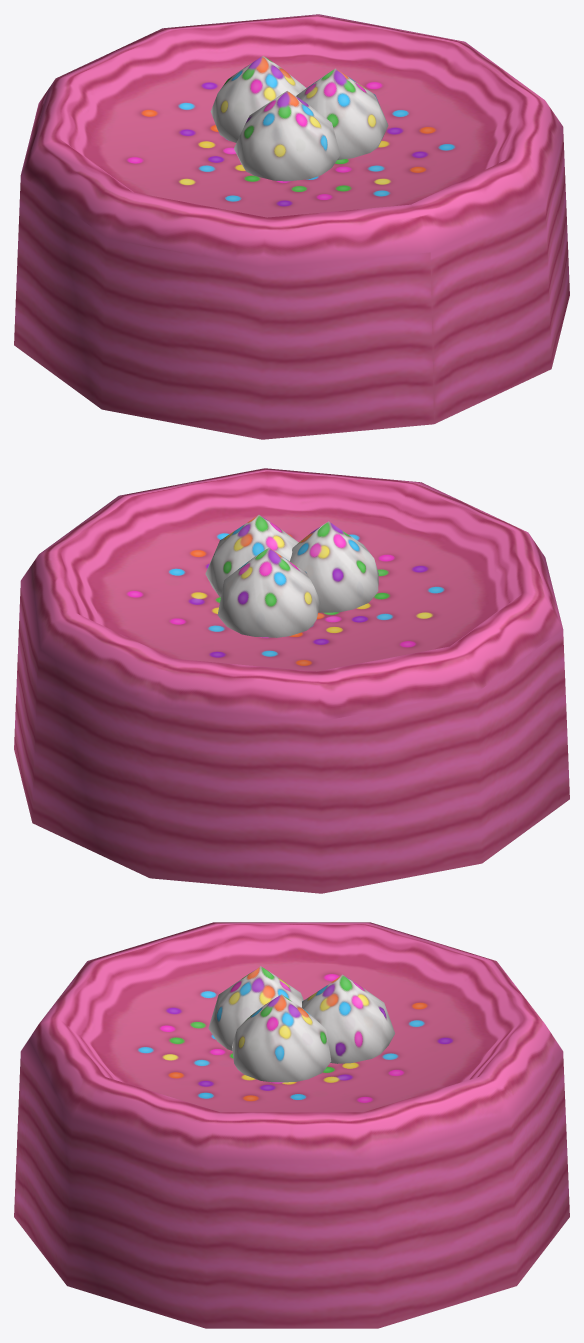
The model's file is BDayCake_Whole.fbx.
3 views of the same model, one above another, from view 1: azimuth 30°, elevation 25°; view 2: azimuth 150°, elevation 25°; view 3: azimuth 270°, elevation 25° (orthographic). The views are drawn at different scales.
Visible parts, largest first — view 1: BDayCake_Whole; view 2: BDayCake_Whole; view 3: BDayCake_Whole.
Part boxes in pixels (<box>): BDayCake_Whole: <box>14,14,569,439</box>; BDayCake_Whole: <box>14,468,569,893</box>; BDayCake_Whole: <box>14,922,569,1328</box>.
Size of the model in its own units: 79.07 by 40.64 by 83.14.
